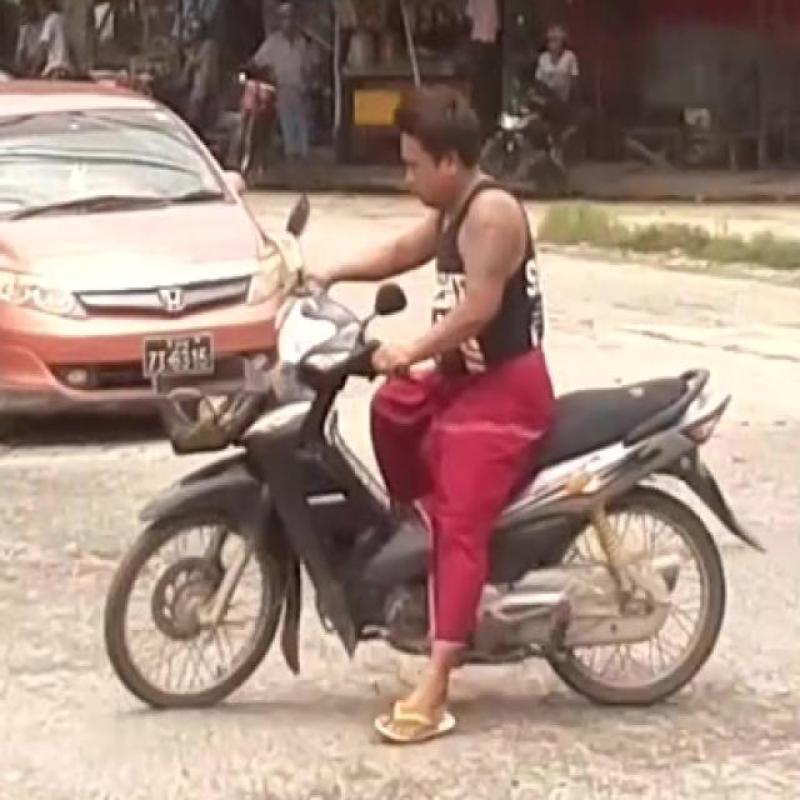nohelmet: (375, 82, 514, 240)
